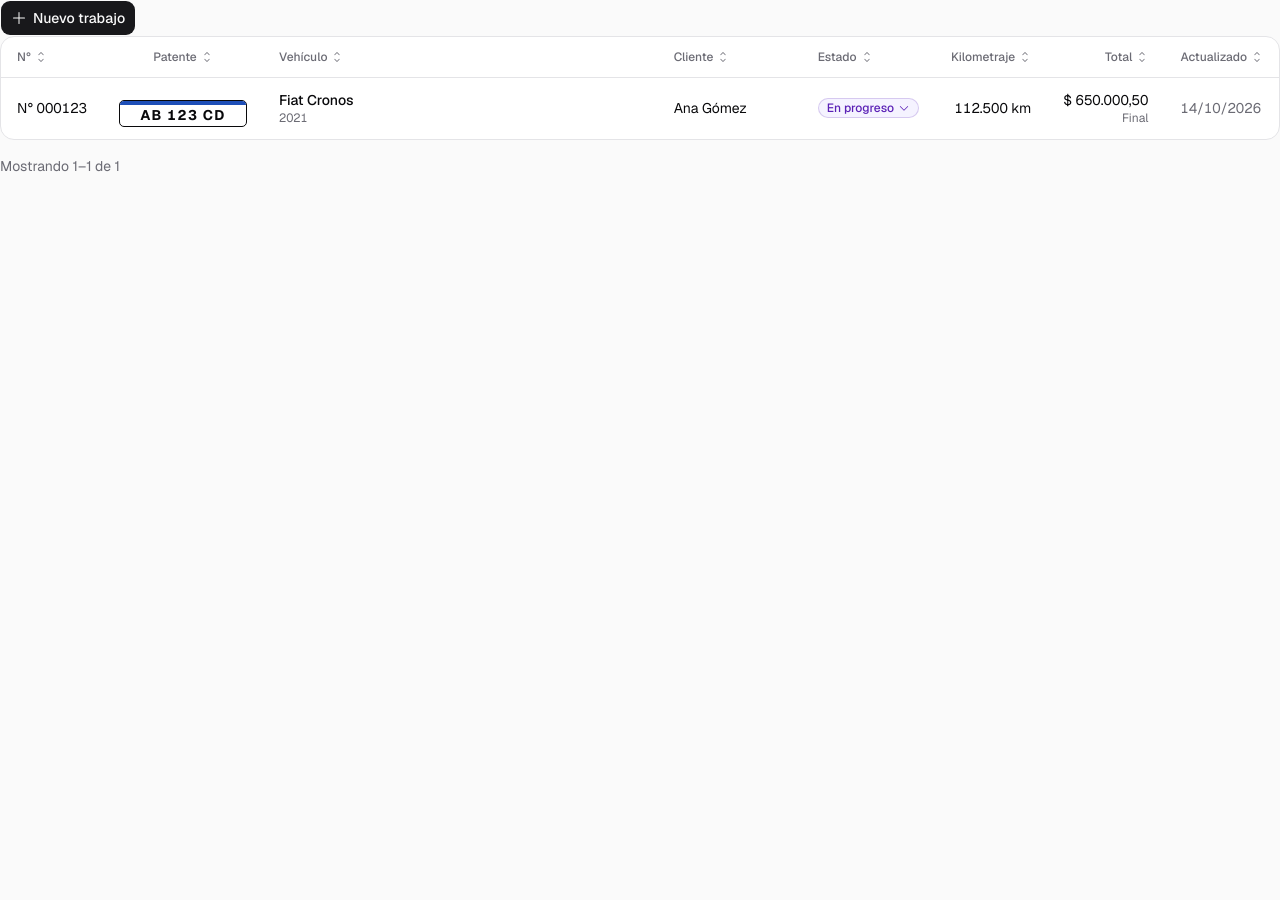
JobsTable › opens the creation form from the button without waiting for a row
The image size is (1280, 900).
Step 1. Click the button "Nuevo trabajo" → coordinates (68, 18), box [0,0,136,36]
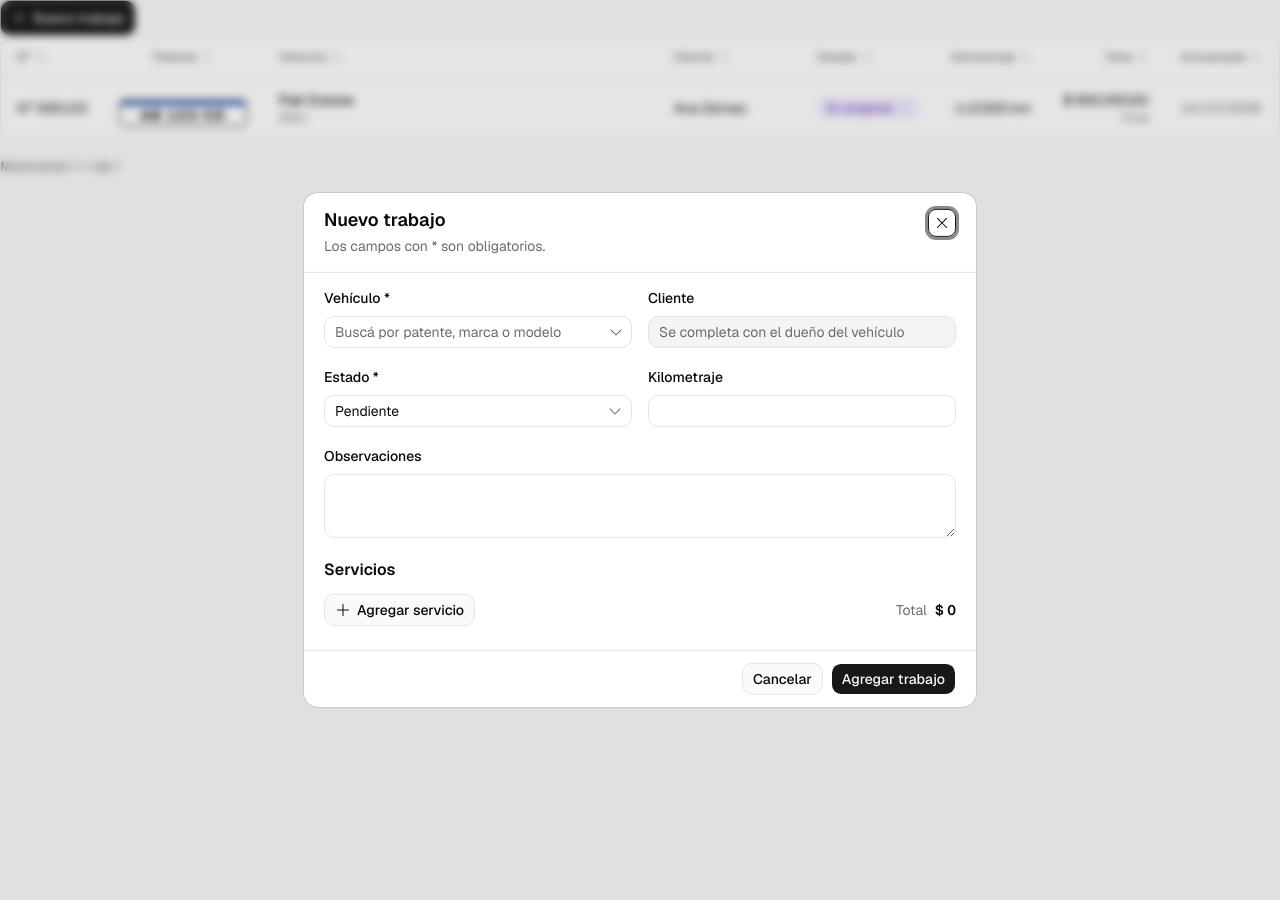
Now the heading "Nuevo trabajo" is shown, box [324,209,446,231]
Now the button "Agregar trabajo" is shown, box [831,663,956,695]
